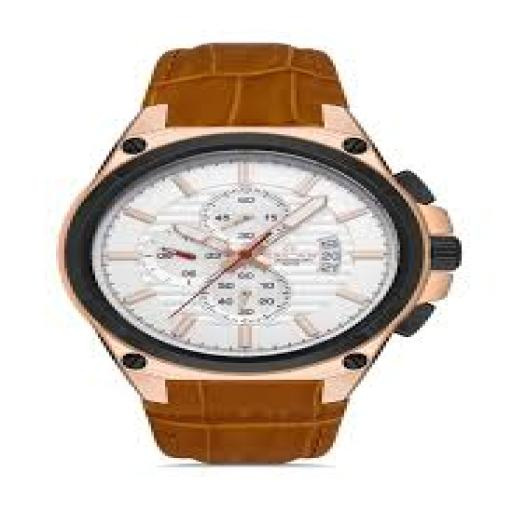KolSaati: (29, 16, 495, 493)
